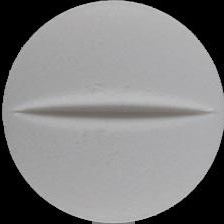0615-5536: (0, 0, 224, 224)
